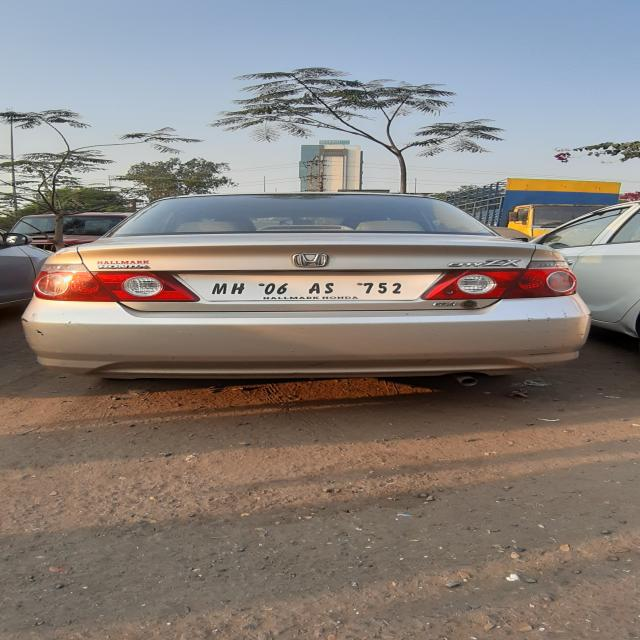Number-Plate: (205, 276, 410, 297)
